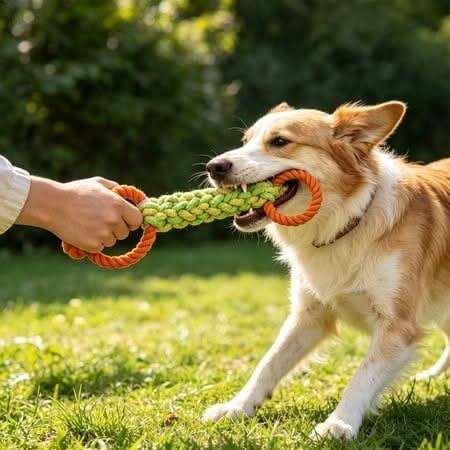adult_dog: (203, 97, 450, 445)
non-dog: (0, 153, 142, 254)
